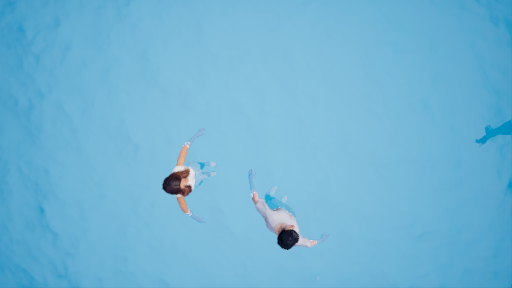person: (247, 173, 329, 255), (163, 131, 222, 226)
